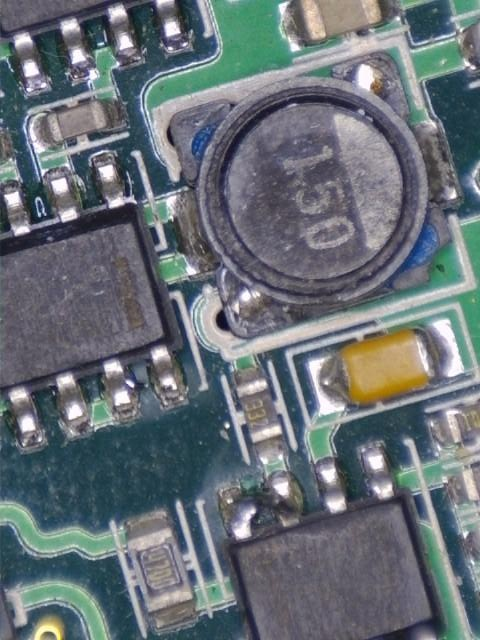pcb_defect: (101, 344, 188, 424), (218, 475, 303, 541)
